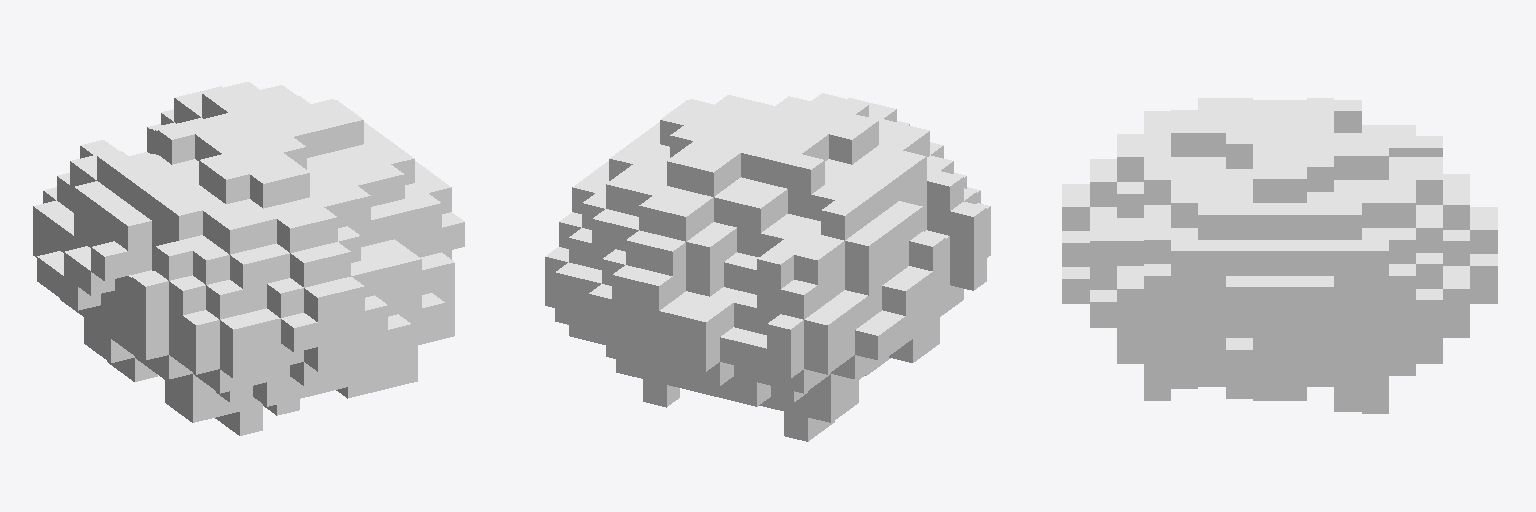
The model's file is SMOL-BOSH-1.obj.
3 renders of one model, left to right at view 1: azimuth 30°, elevation 25°; view 2: azimuth 150°, elevation 25°; view 3: azimuth 270°, elevation 25°, orthographic.
Parts seen in each view (by area): view 1: object 1; view 2: object 1; view 3: object 1.
Part boxes in pixels (bbox=[...]): object 1: bbox=[33, 82, 464, 435]; object 1: bbox=[545, 93, 990, 441]; object 1: bbox=[1062, 98, 1497, 413].
Bounding box in the file's own units: 1.4 × 1 × 1.6.